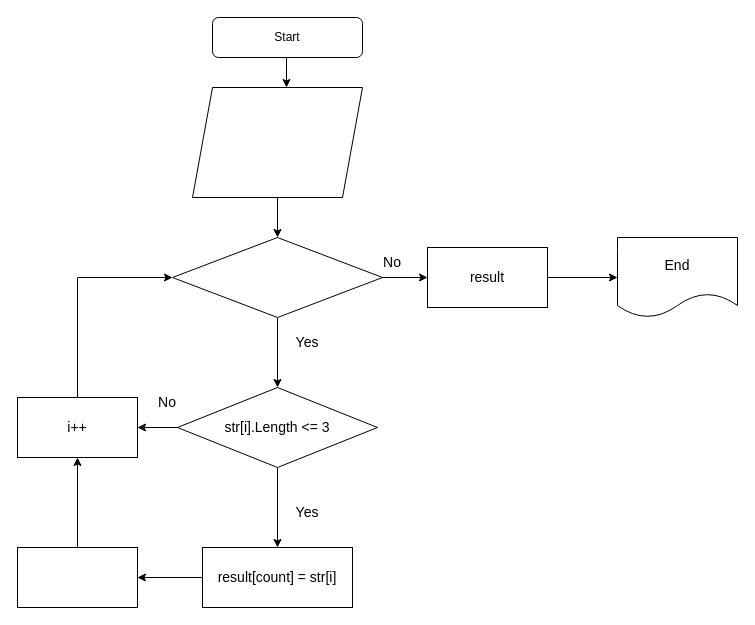
This 755x625 diagram has some shape labels left out. Here are the shapes that lost their labels. From the top down, the centre of each, then its label:
At point (277, 142): "string[] str string[] result int count = 0 int i = 0".
At point (277, 277): "i < str.Length".
At point (77, 577): "count += 1".
